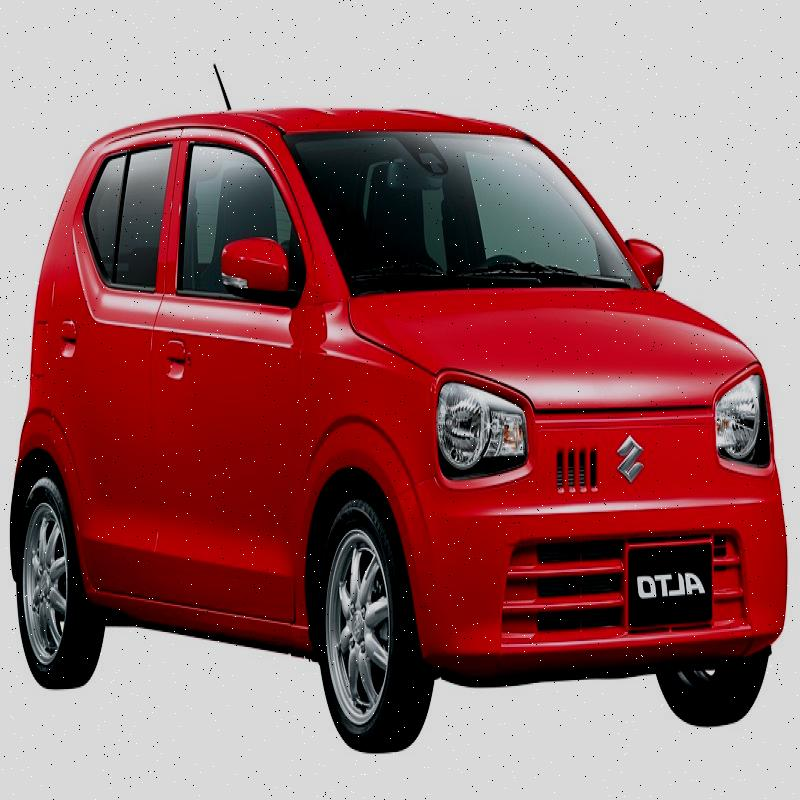car: (19, 80, 780, 751)
